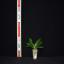leaf: (29, 38, 35, 47), (35, 38, 41, 47), (26, 43, 35, 48), (35, 42, 42, 48), (25, 46, 34, 50), (35, 46, 44, 50)
